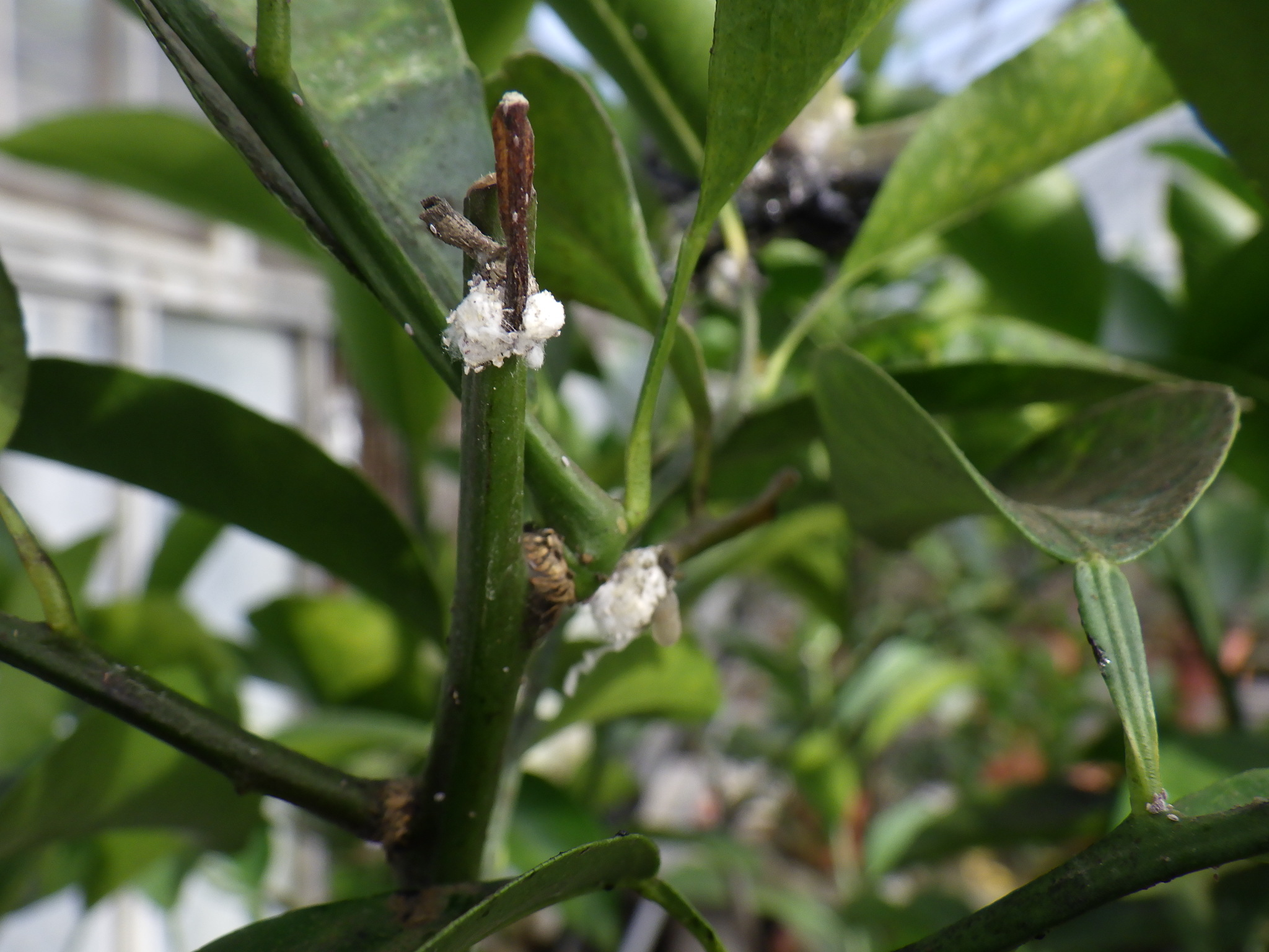Scale_Insect: (442, 290, 559, 371)
